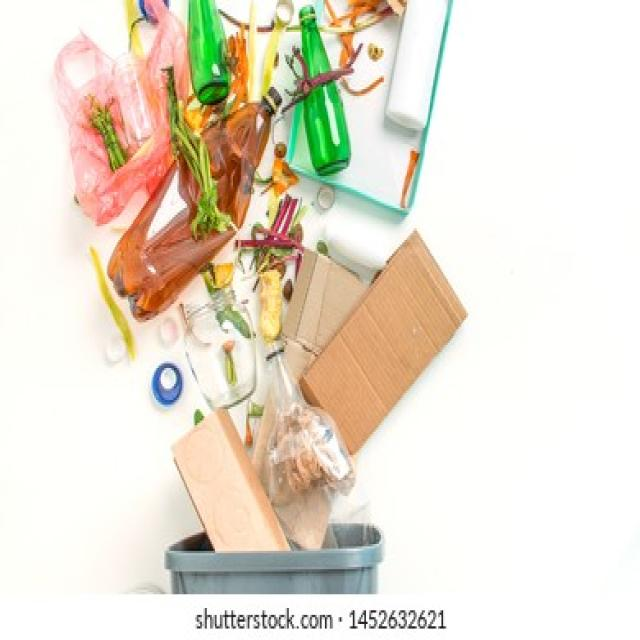cardboard: (280, 226, 478, 430), (169, 421, 287, 553)
glass: (292, 2, 351, 162), (186, 5, 232, 94)
plastic: (112, 89, 287, 311)
